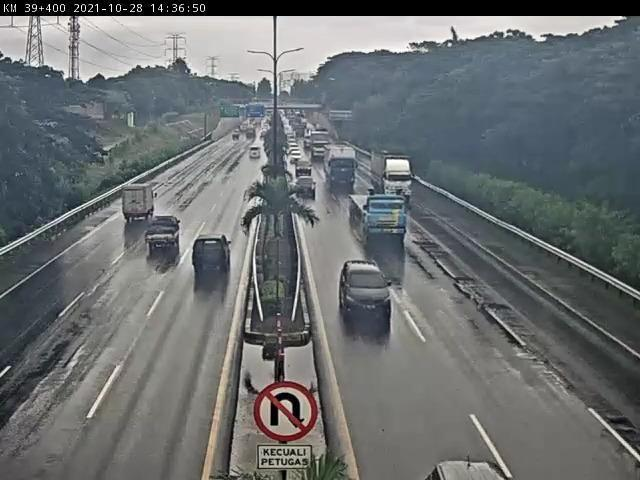car: (338, 262, 393, 329), (188, 233, 243, 278), (301, 179, 322, 200), (296, 164, 315, 175)
truck: (346, 196, 410, 240), (372, 145, 415, 202), (329, 146, 366, 189), (118, 185, 152, 218), (153, 216, 179, 246)
